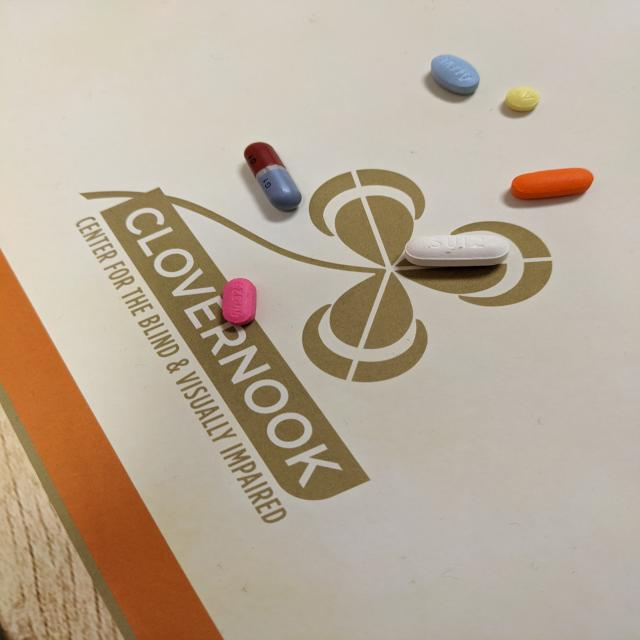non-organic waste: (242, 141, 305, 213), (403, 233, 511, 268), (508, 167, 594, 200), (428, 54, 481, 96), (221, 277, 258, 326), (503, 86, 541, 113)
